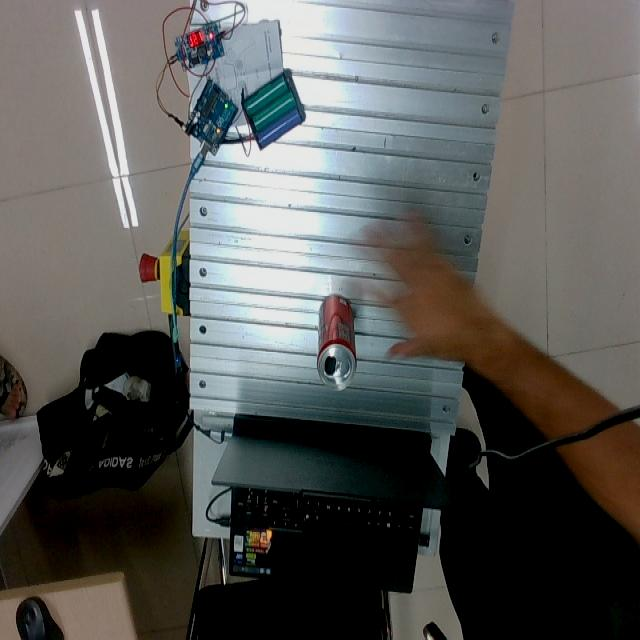coca: (316, 293, 357, 391)
